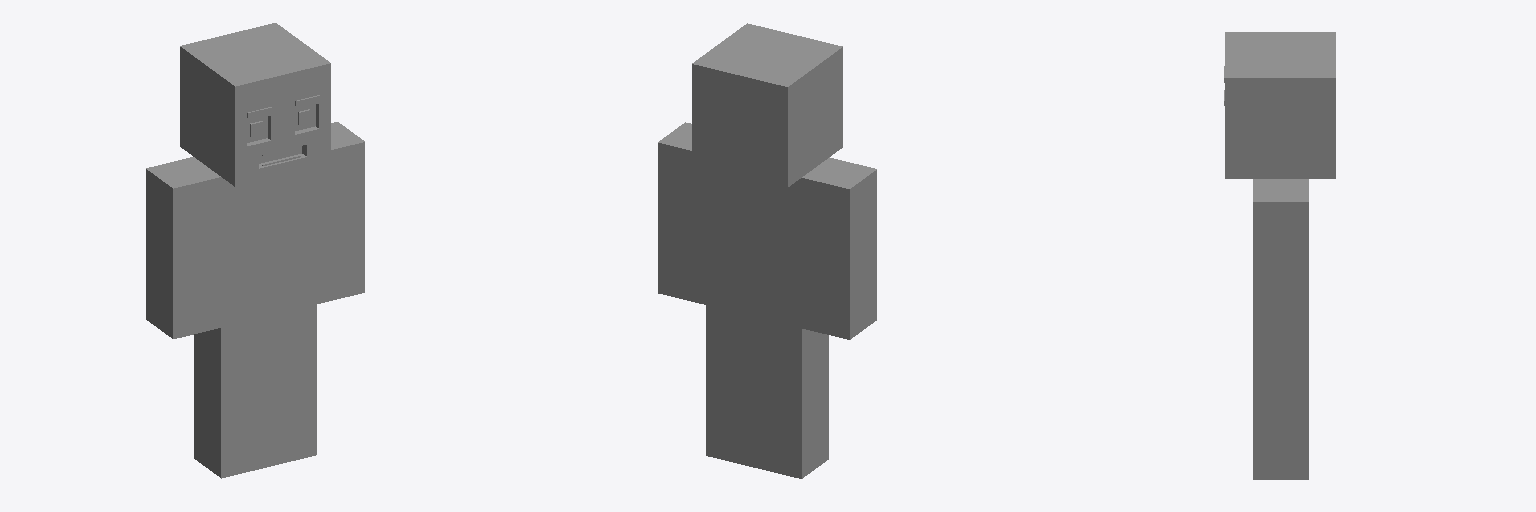
Rendered from steve.obj.
3 views of the same model, side by side, from view 1: azimuth 30°, elevation 25°; view 2: azimuth 150°, elevation 25°; view 3: azimuth 270°, elevation 25° (orthographic).
Visible parts, largest first — view 1: head, root, arm1.R, chest, leg2.R, arm2.R, leg1.R, arm1.L, leg2.L, arm2.L, leg1.L; view 2: head, root, arm1.R, chest, arm2.R, leg2.R, leg1.R, arm1.L, leg1.L, arm2.L, leg2.L; view 3: head, arm1.L, leg2.L, arm2.L, leg1.L.
Boxes of the visible parts, x1,y1,x2,y2 form: head: [180, 23, 330, 186]; root: [221, 229, 316, 327]; arm1.R: [146, 157, 220, 263]; chest: [221, 167, 316, 251]; leg2.R: [194, 384, 268, 478]; arm2.R: [146, 244, 220, 338]; leg1.R: [194, 316, 268, 402]; arm1.L: [317, 122, 364, 228]; leg2.L: [269, 380, 316, 466]; arm2.L: [317, 217, 364, 303]; leg1.L: [269, 305, 316, 390]; head: [692, 23, 842, 187]; root: [706, 230, 801, 327]; arm1.R: [802, 157, 876, 264]; chest: [706, 168, 801, 252]; arm2.R: [802, 245, 876, 339]; leg2.R: [754, 384, 828, 478]; leg1.R: [754, 317, 828, 403]; arm1.L: [658, 122, 705, 229]; leg1.L: [706, 305, 753, 391]; arm2.L: [658, 218, 705, 304]; leg2.L: [706, 381, 753, 467]; head: [1224, 32, 1335, 178]; arm1.L: [1253, 179, 1308, 277]; leg2.L: [1253, 405, 1308, 479]; arm2.L: [1253, 278, 1308, 352]; leg1.L: [1253, 353, 1308, 404].
Size of the model in its own units: 1.6 by 3.2 by 0.8132.